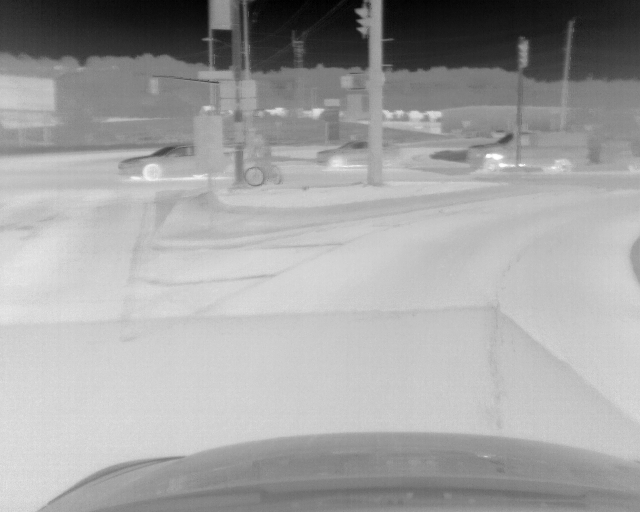bike: (243, 152, 282, 187)
car: (465, 132, 640, 174), (118, 144, 196, 180), (316, 138, 394, 169)
people: (248, 130, 276, 178)
